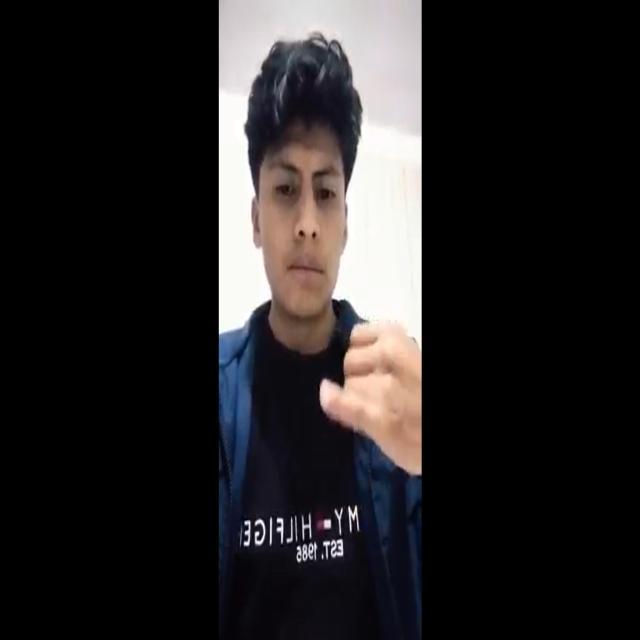J: (300, 272, 422, 492)
